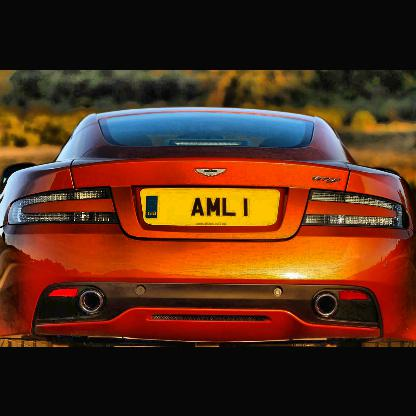Aston Martin Virage Coupe 2012: (2, 104, 416, 347)
